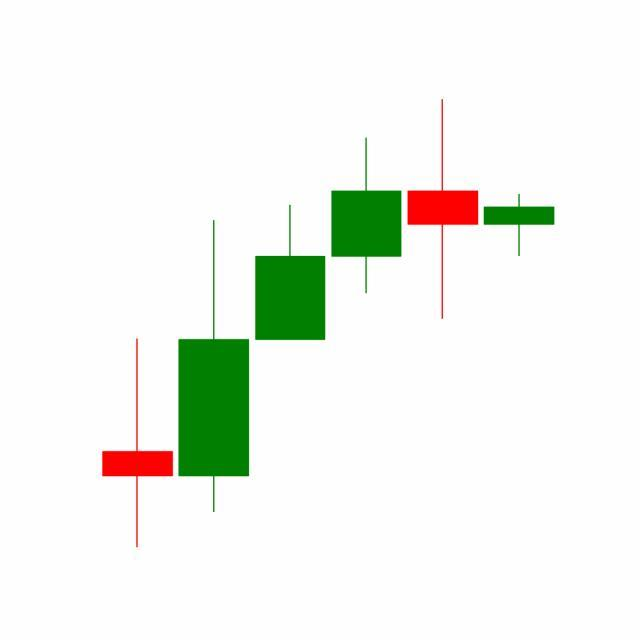Spinning Top: (404, 97, 482, 322)
